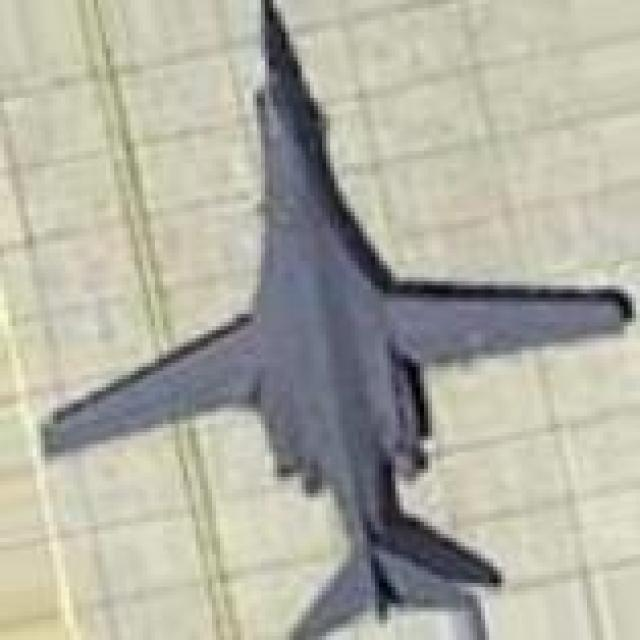B-1_TopDown: (37, 0, 636, 636)
